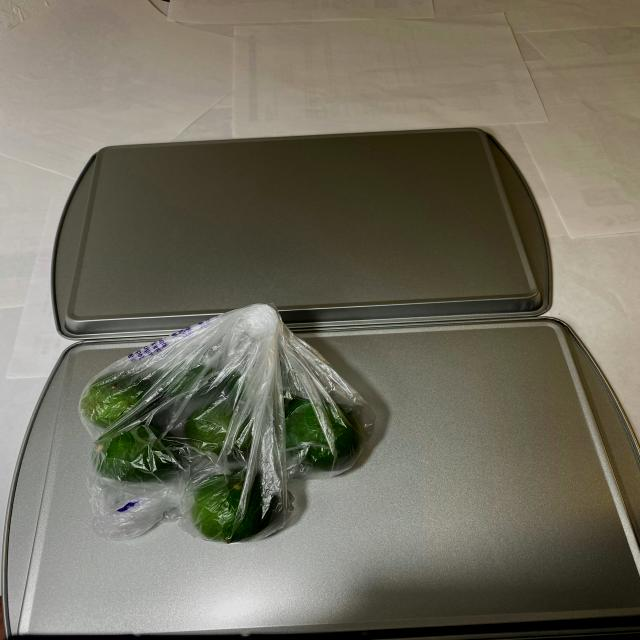lemon: (79, 338, 365, 540)
